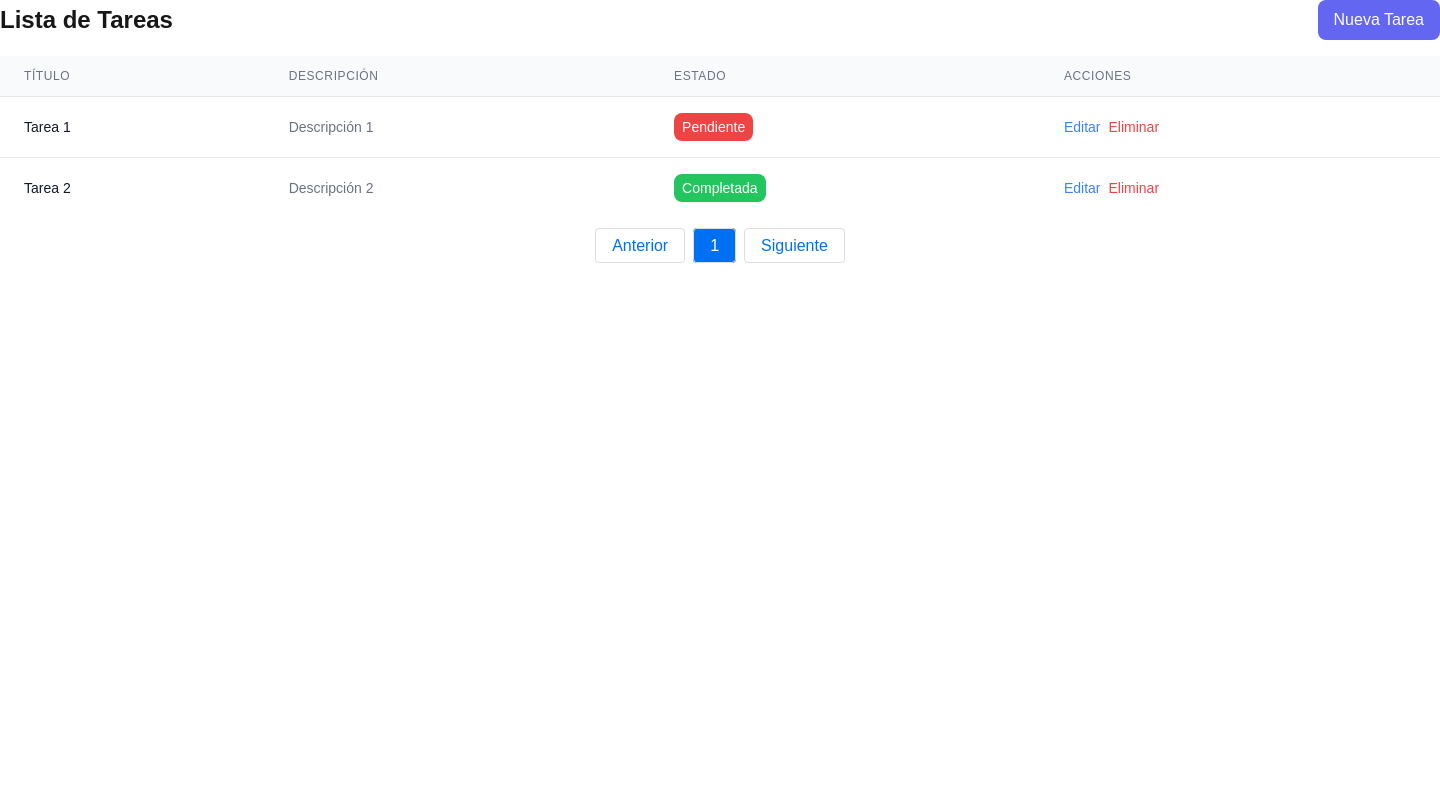
Test case: TaskList Component › debería cerrar el modal de confirmación al hacer clic en "Cancelar"
The width and height of the screenshot is (1440, 810).
Click the button "Eliminar" in the row of "Tarea 1" at (1134, 127), box [1108, 117, 1159, 137]
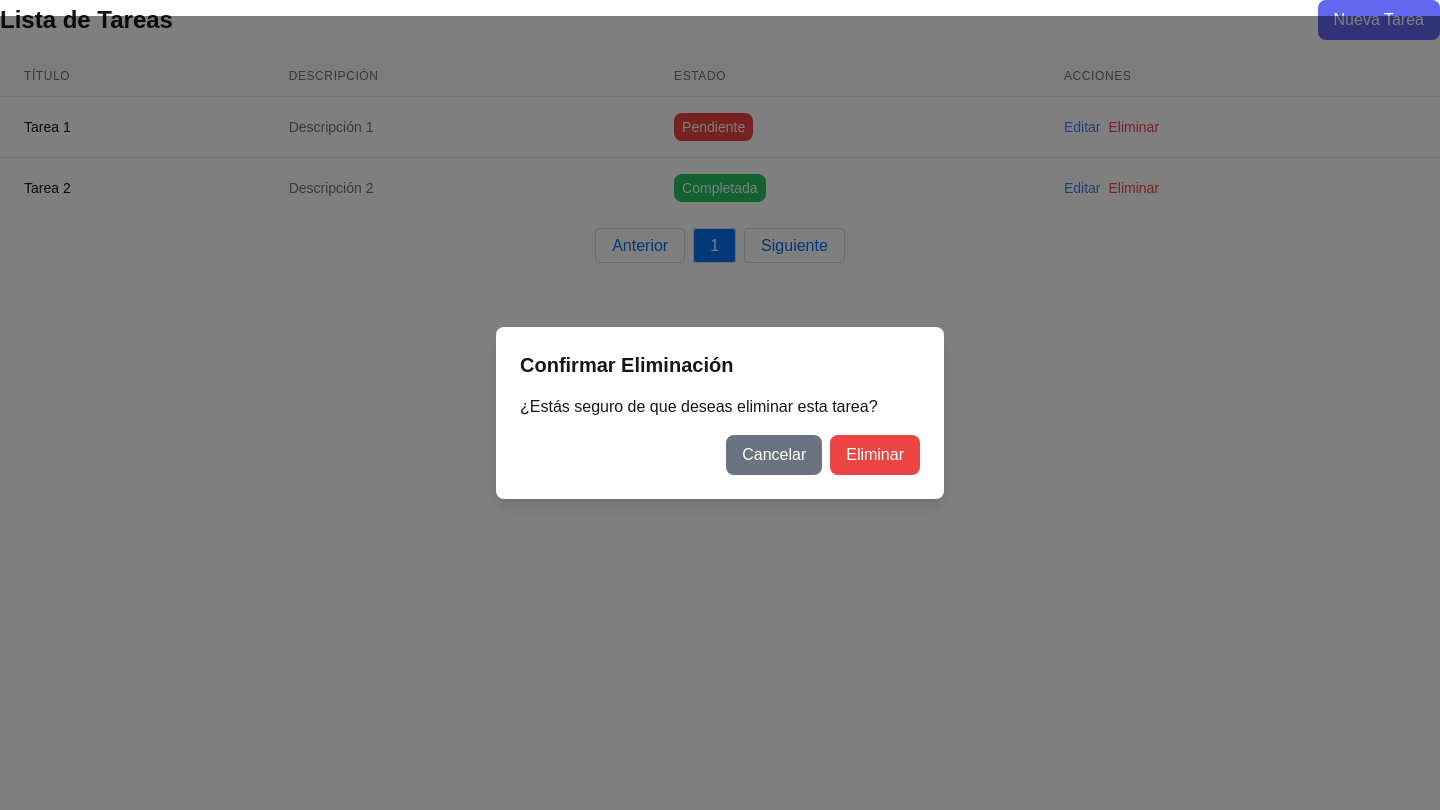
Click the button "Cancelar" at (774, 455), box [726, 435, 822, 475]
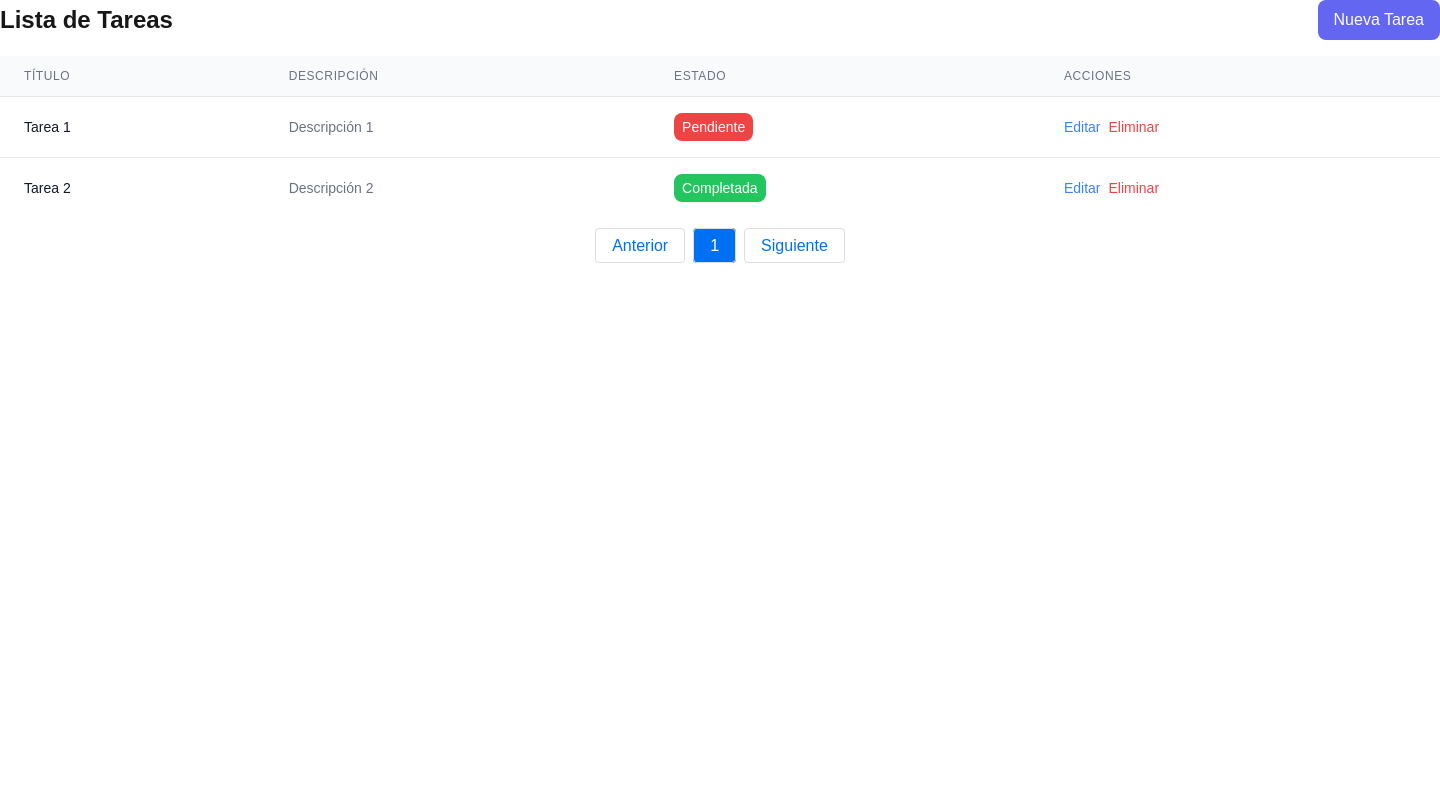
Result: the heading "Confirmar Eliminación" is gone
